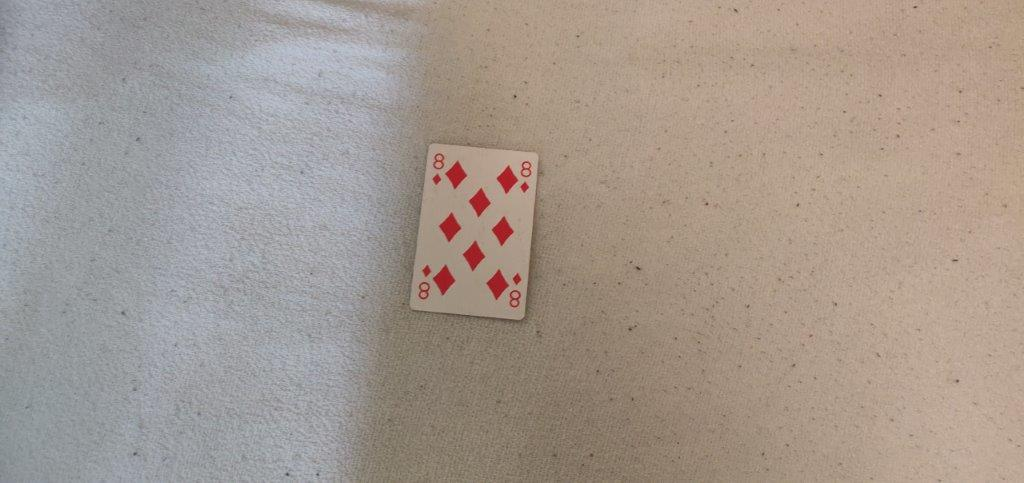8D: (429, 148, 446, 190), (518, 159, 534, 199)
